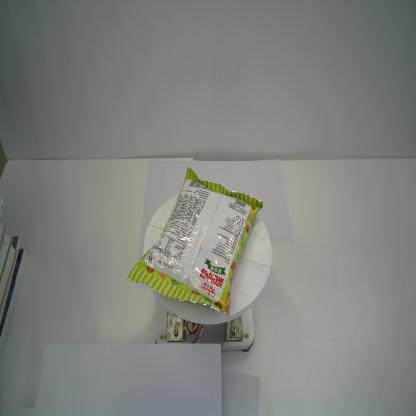Puffed Food: (126, 165, 264, 318)
